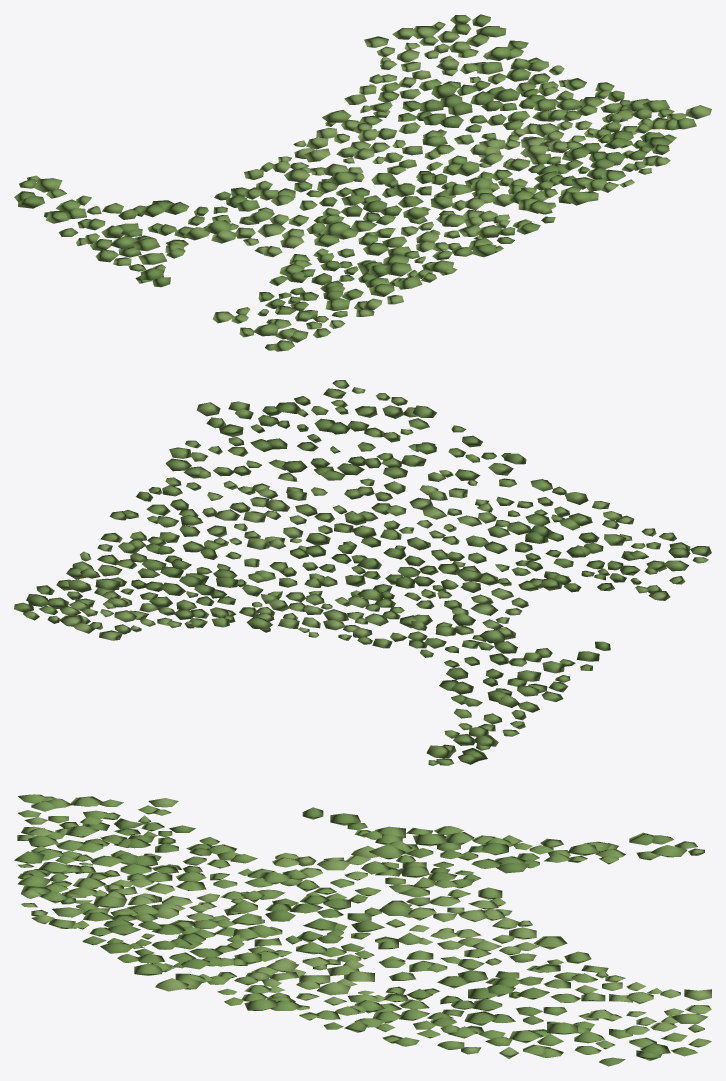
Rendered from canopy-1--3--2.glb.
3 renders of one model, top to bottom at view 1: azimuth 30°, elevation 25°; view 2: azimuth 150°, elevation 25°; view 3: azimuth 270°, elevation 25°, orthographic. The views are drawn at different scales.
Bounding box in the file's own units: 520 × 132 × 508.
Materials: 1 (1 with a texture image).
